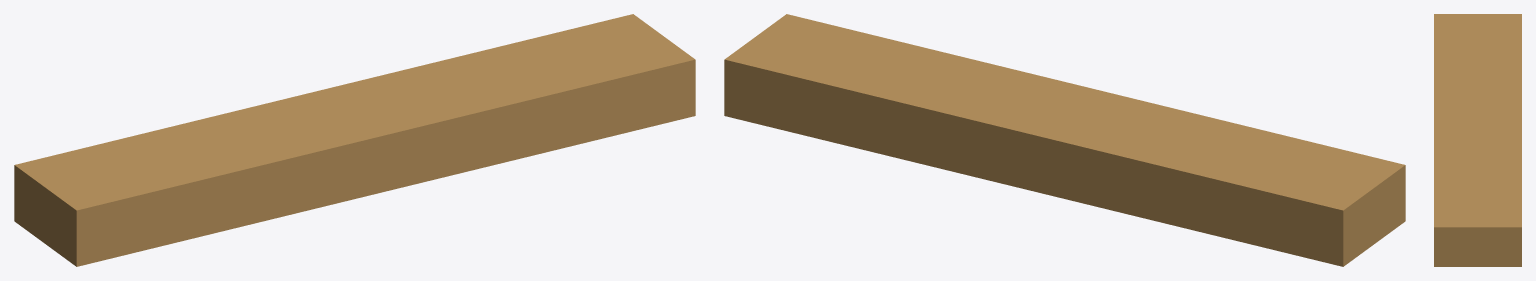
3 views of the same model, side by side, from view 1: azimuth 30°, elevation 25°; view 2: azimuth 150°, elevation 25°; view 3: azimuth 270°, elevation 25° (orthographic). The views are drawn at different scales.
Visible parts, largest first — view 1: RUN-040-S00-NOG-00; view 2: RUN-040-S00-NOG-00; view 3: RUN-040-S00-NOG-00.
Part boxes in pixels (x1,y1,x2,y2): RUN-040-S00-NOG-00: (14, 14, 695, 266); RUN-040-S00-NOG-00: (724, 14, 1405, 266); RUN-040-S00-NOG-00: (1434, 14, 1521, 266).
Size of the model in its own units: 0.5165 by 0.045 by 0.09.
